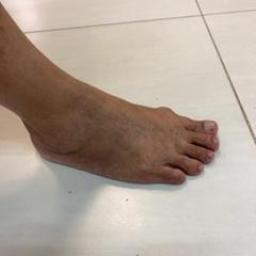Lateral View -Right Foot-: (8, 37, 234, 221)
